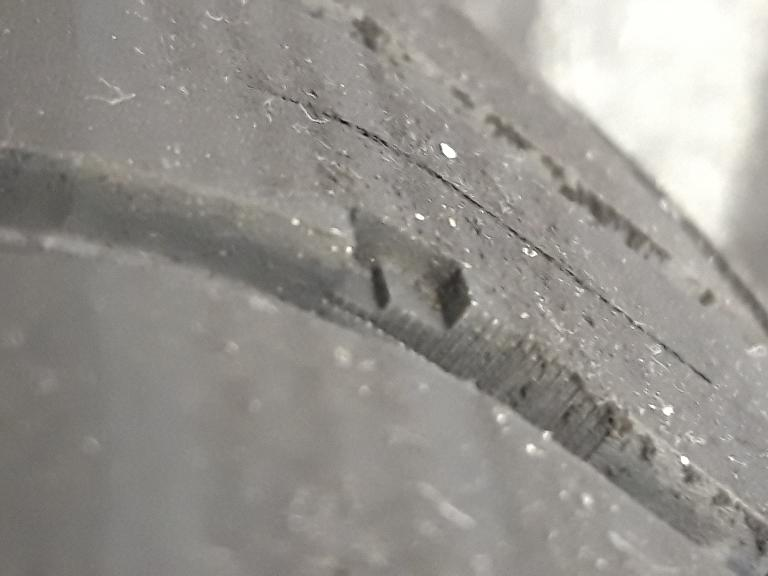temoin:50: (307, 200, 528, 402)
